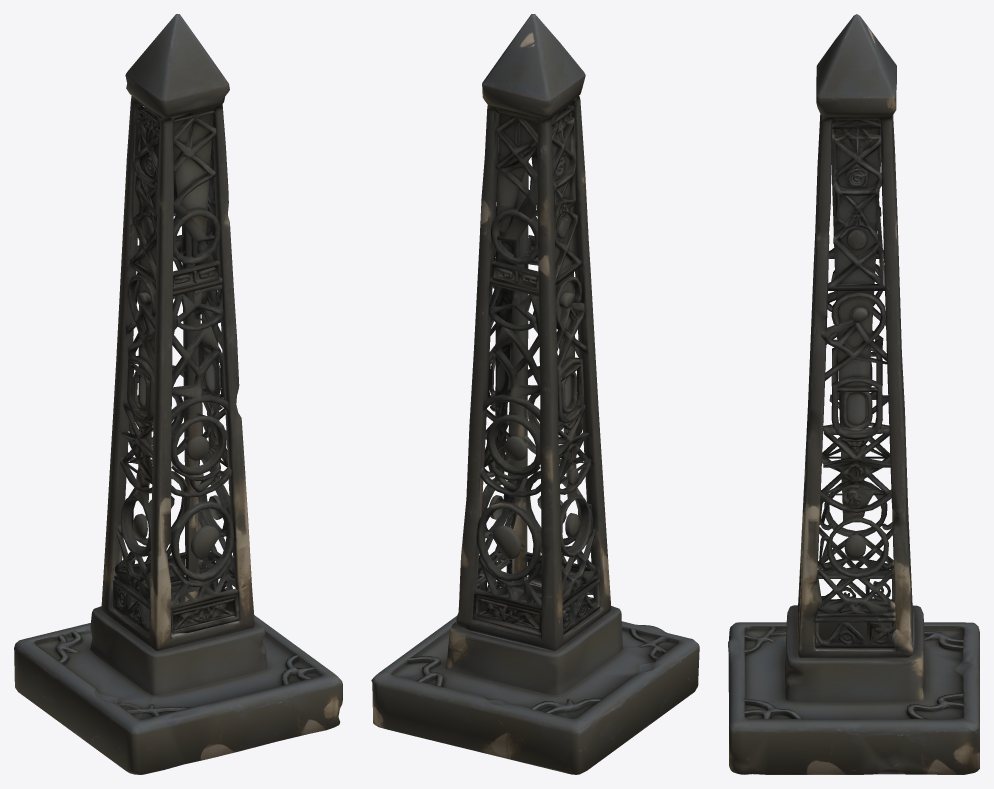
File: weathered-obelisk.glb
3 views of the same model, side by side, from view 1: azimuth 30°, elevation 25°; view 2: azimuth 150°, elevation 25°; view 3: azimuth 270°, elevation 25° (orthographic). The views are drawn at different scales.
Visible parts, largest first — view 1: tripo_node_e498f371-f995-4955-add9-e2e16911b4af; view 2: tripo_node_e498f371-f995-4955-add9-e2e16911b4af; view 3: tripo_node_e498f371-f995-4955-add9-e2e16911b4af.
Part boxes in pixels (left/top/right/bottom): tripo_node_e498f371-f995-4955-add9-e2e16911b4af: left=14, top=14, right=342, bottom=774; tripo_node_e498f371-f995-4955-add9-e2e16911b4af: left=371, top=14, right=699, bottom=774; tripo_node_e498f371-f995-4955-add9-e2e16911b4af: left=728, top=14, right=979, bottom=774.
Size of the model in its own units: 0.3198 by 0.9995 by 0.3218.
Materials: 1 (1 with a texture image).
